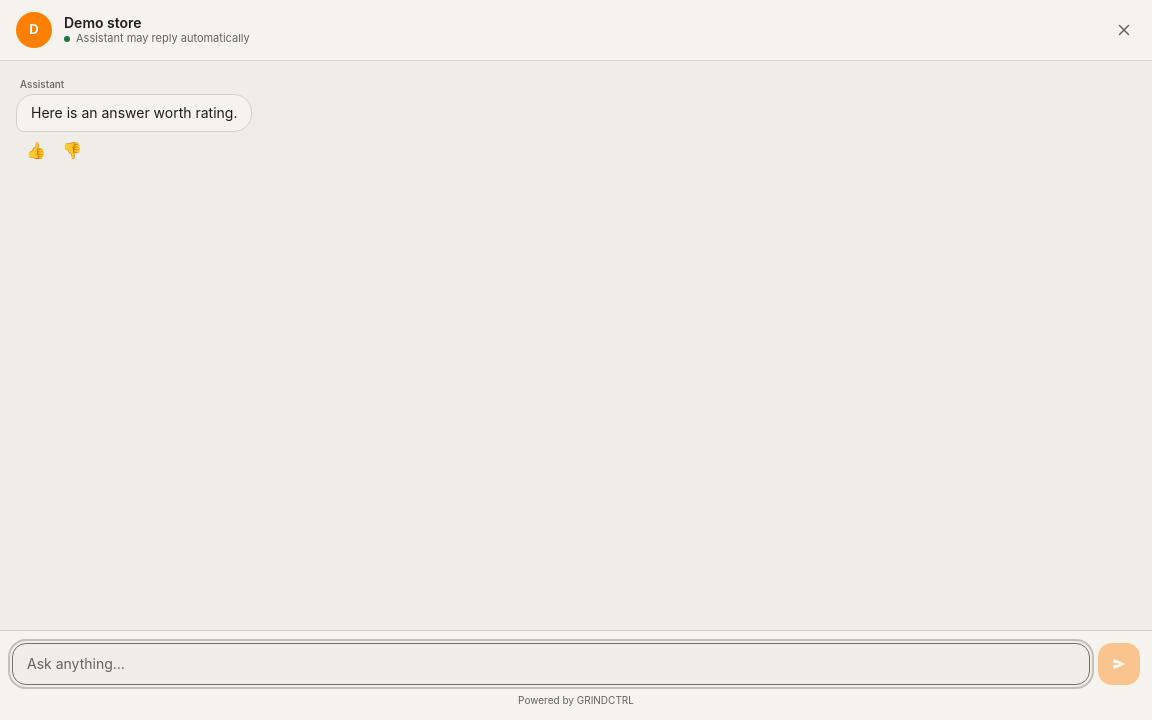
Test: MessengerPanel per-message feedback › posts the vote with the message id and thanks the shopper immediately
Expected: the text "Here is an answer worth rating." is shown, [16, 94, 252, 132]
Click the button named "Helpful" at [36, 150], box [20, 136, 52, 164]
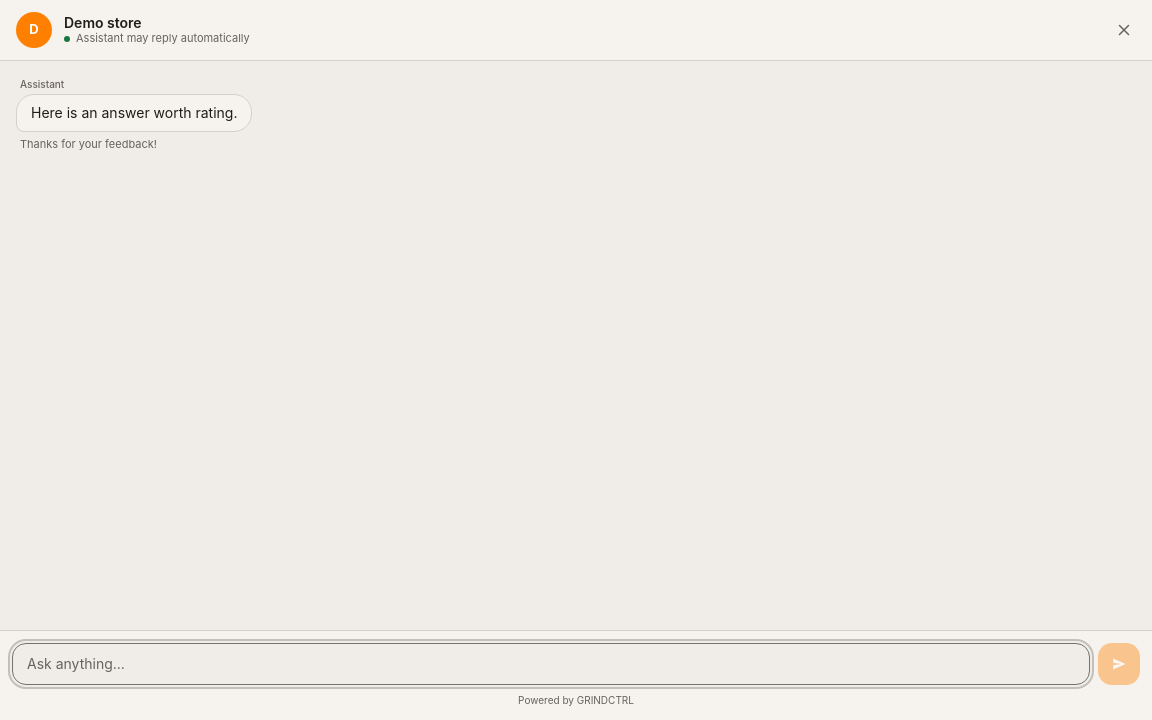
Expected: the text "Thanks for your feedback!" is shown, [16, 136, 161, 152]
Expected: the button "Helpful" is gone
Expected: the button "Not helpful" is gone
